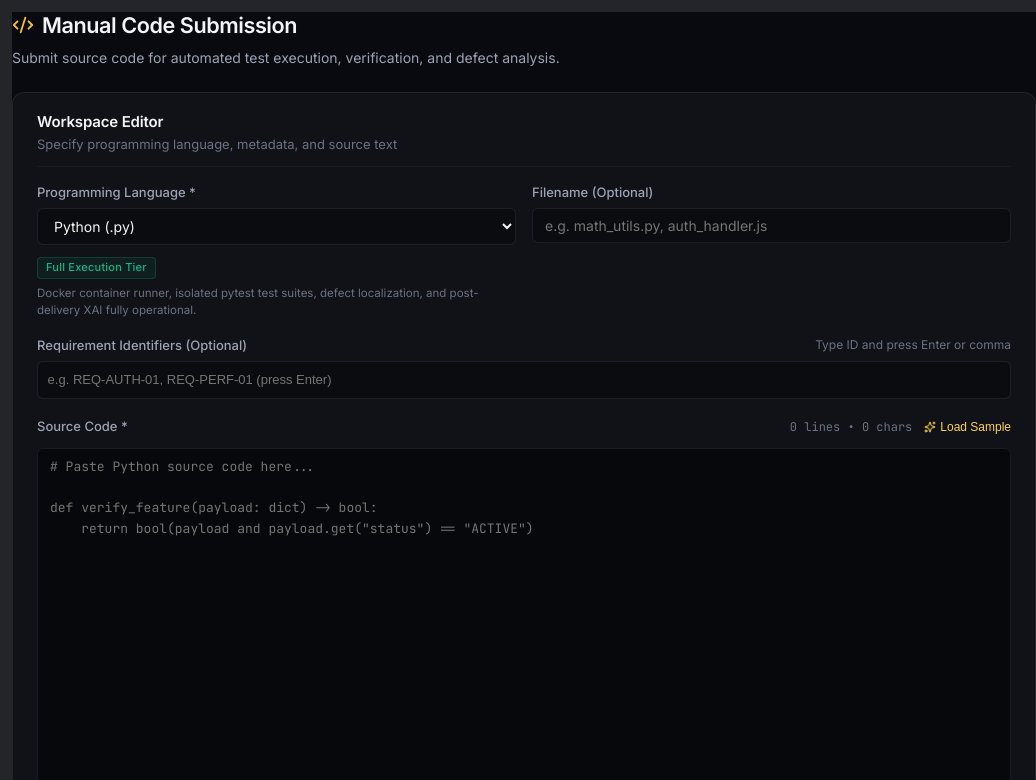
Test case: Manual Entry Language-Aware Sample Loading (Task 1) › displays appropriate execution tier badges and capability descriptions
Select "Python (.py)" in the dropdown labelled "Programming Language *" at [276, 226], box [37, 208, 516, 245]
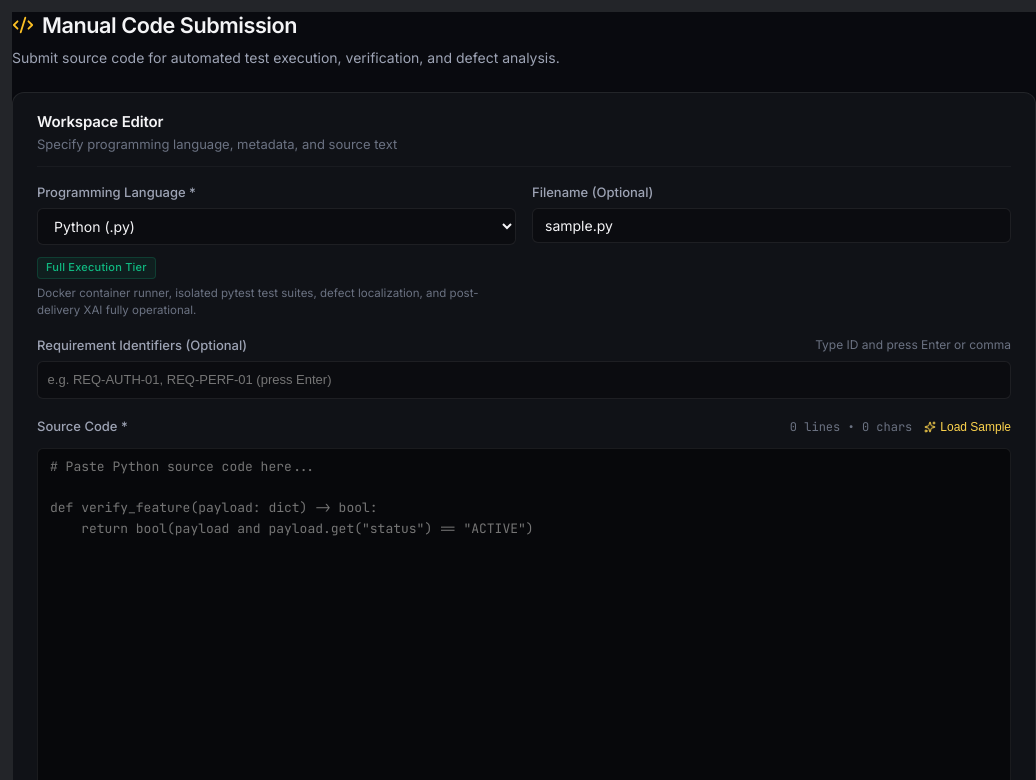
Expected: the text "Full Execution Tier" is shown, [46, 260, 147, 275]
Expected: the text "Docker container runner, isolated pytest test suites" is shown, [37, 286, 478, 317]
Select "Java (.java)" in the dropdown labelled "Programming Language *" at [276, 226], box [37, 208, 516, 245]
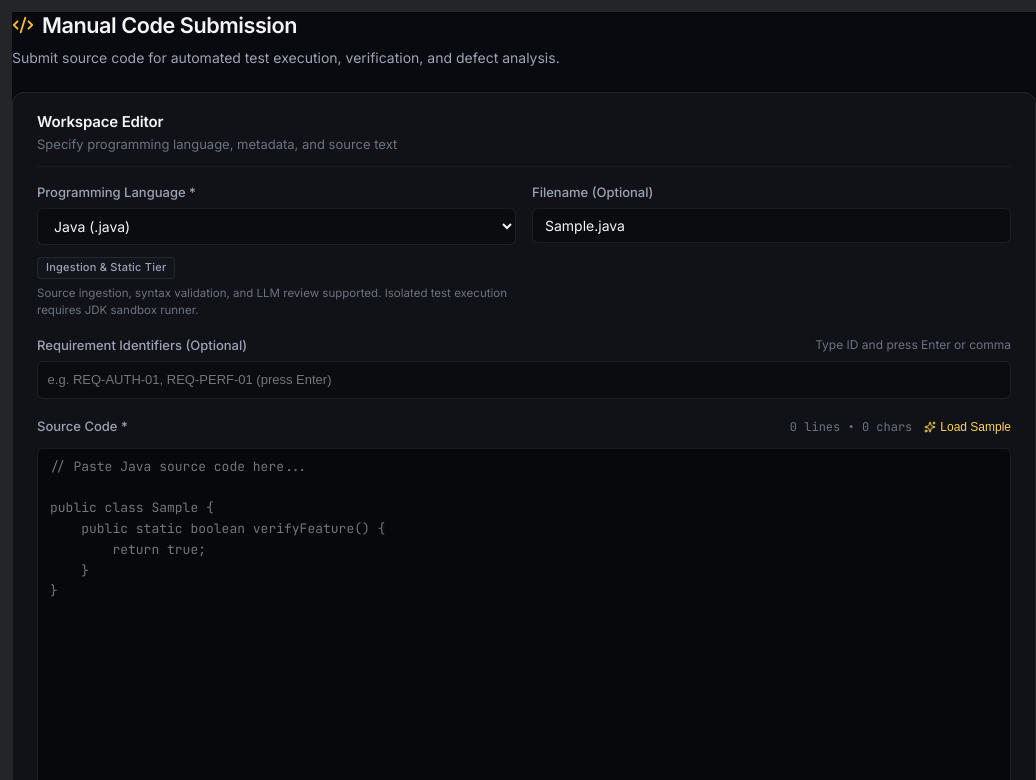
Expected: the text "Ingestion & Static Tier" is shown, [46, 260, 166, 275]
Expected: the text "requires JDK sandbox runner" is shown, [37, 286, 507, 317]
Select "Rust (.rs)" in the dropdown labelled "Programming Language *" at [276, 226], box [37, 208, 516, 245]
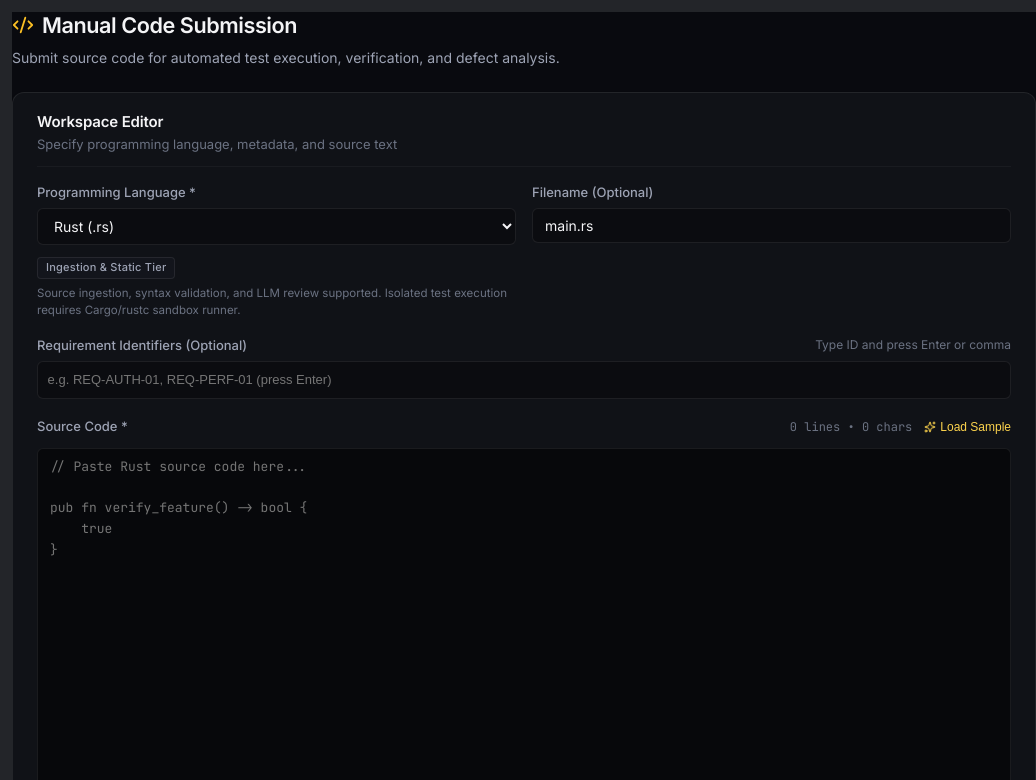
Expected: the text "requires Cargo/rustc sandbox runner" is shown, [37, 286, 507, 317]
